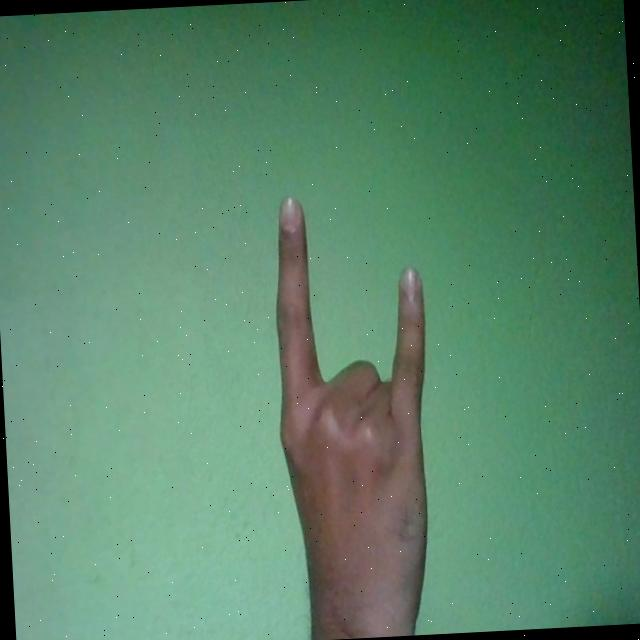open Plam: (266, 188, 441, 640)
